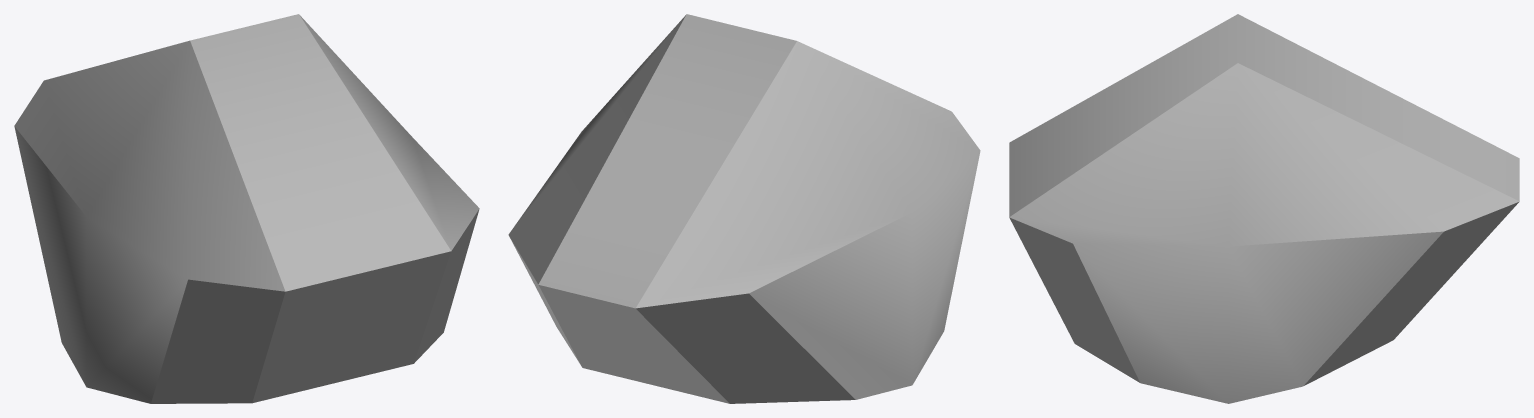
File: Ground Stone 4.fbx
The picture shows the model from 3 angles, left to right: view 1: azimuth 30°, elevation 25°; view 2: azimuth 150°, elevation 25°; view 3: azimuth 270°, elevation 25°; orthographic projection. The views are drawn at different scales.
Parts seen in each view (by area): view 1: Ground_Stone_4; view 2: Ground_Stone_4; view 3: Ground_Stone_4.
Part boxes in pixels (x1=…): Ground_Stone_4: x1=14, y1=14, x2=479, y2=403; Ground_Stone_4: x1=508, y1=14, x2=980, y2=403; Ground_Stone_4: x1=1009, y1=14, x2=1519, y2=403.
Bounding box in the file's own units: 0.9 × 0.8353 × 1.32.
